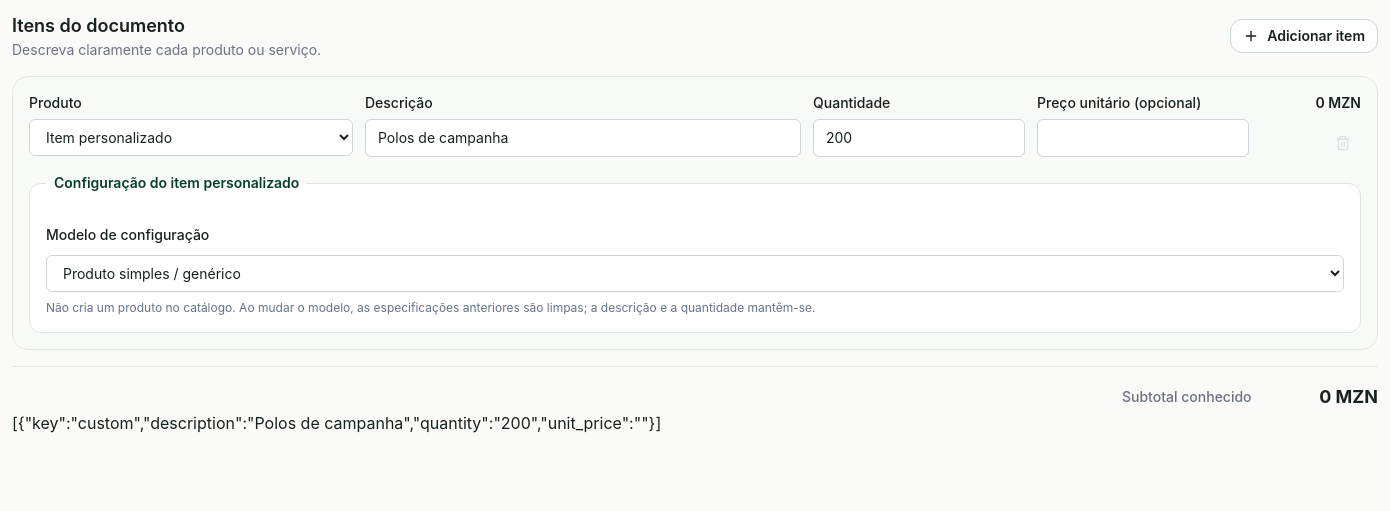
Scenario: Custom document item configurations › keeps catalogue configuration controlled by the selected product and can return to a custom item
Select "Powerbank" in the dropdown labelled "Produto" at (191, 138), box [29,119,353,156]
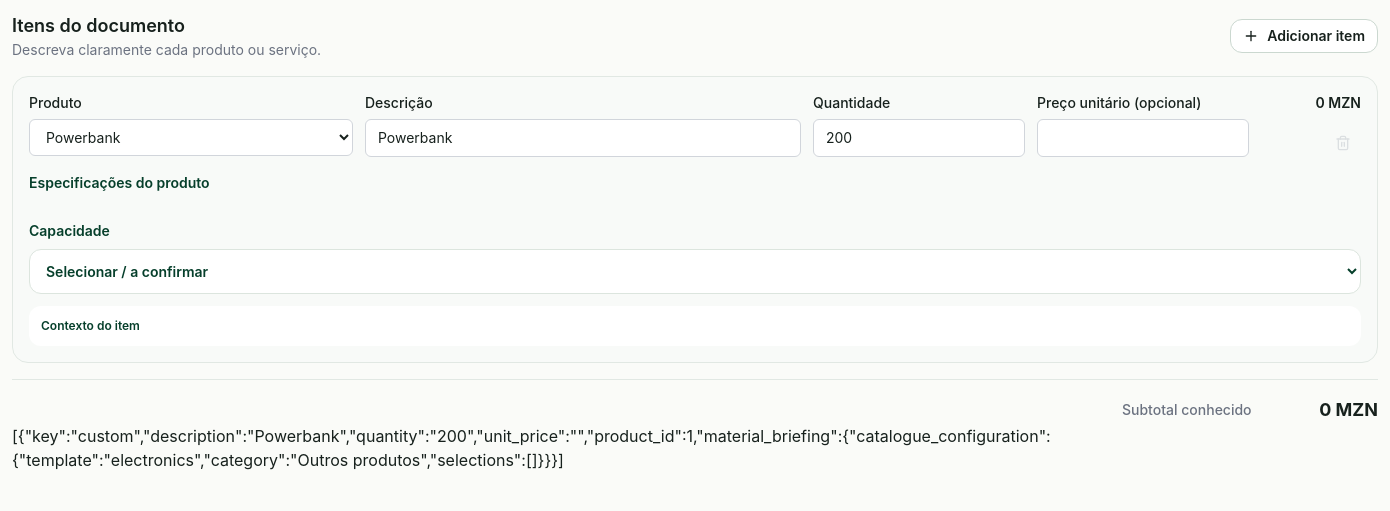
Expected: the label labelled "Modelo de configuração" is gone
Select "20000 mAh" in the dropdown labelled "Capacidade" at (695, 272), box [29,249,1361,294]
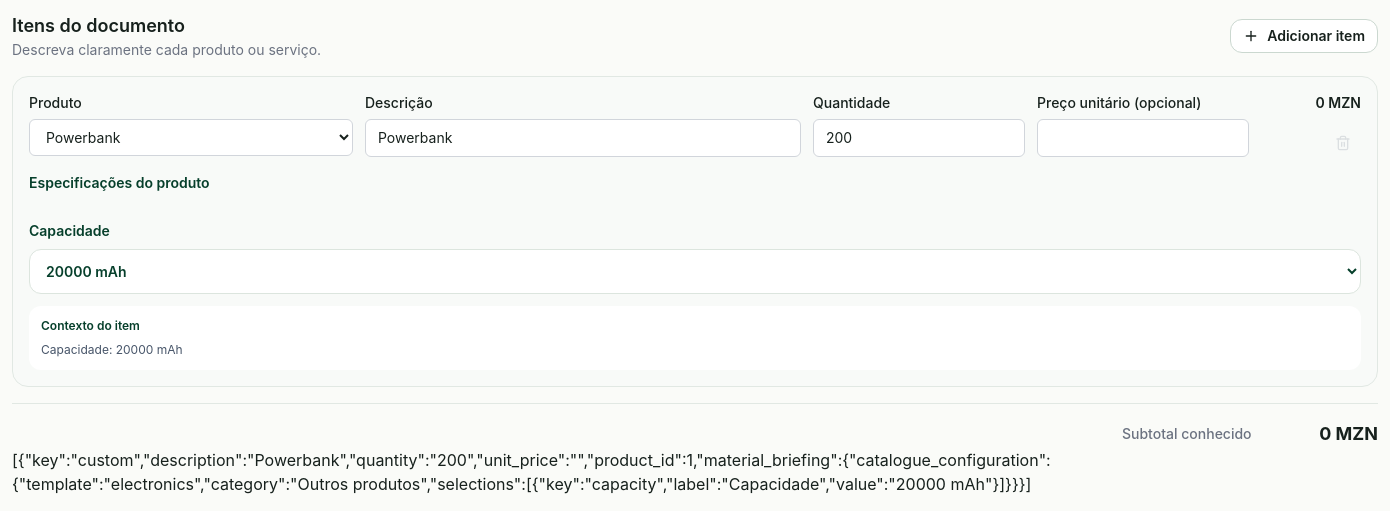
Select "Item personalizado" in the dropdown labelled "Produto" at (191, 138), box [29,119,353,156]
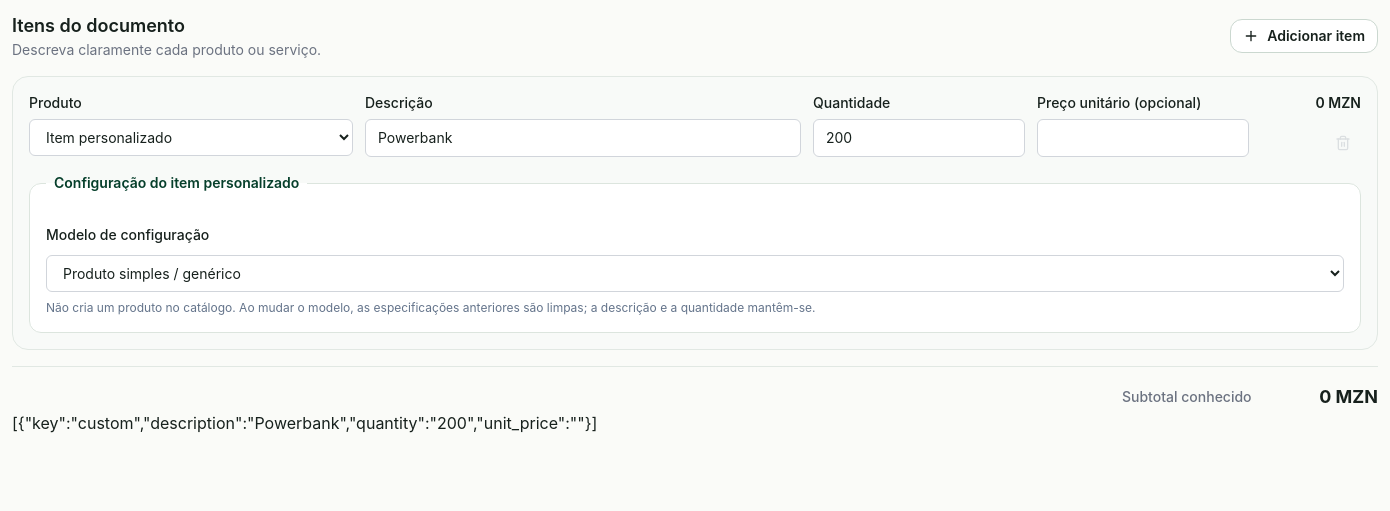
Expected: the dropdown labelled "Modelo de configuração" shows "Produto simples / genérico", [46,255,1344,292]
